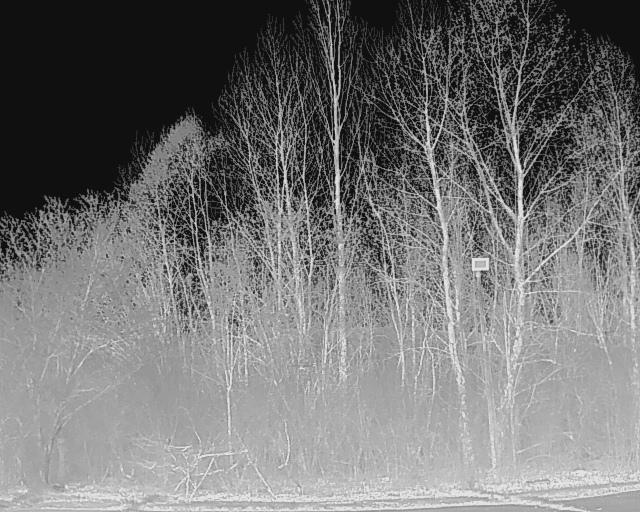drone: (279, 348, 329, 401)
